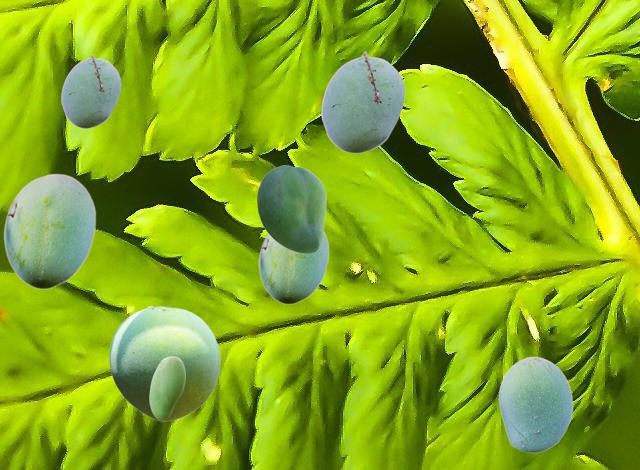green_mango: (109, 305, 219, 420), (3, 173, 95, 288), (321, 51, 404, 152), (498, 356, 572, 452), (257, 165, 325, 252), (258, 232, 328, 303), (61, 54, 120, 127), (149, 356, 184, 419)
